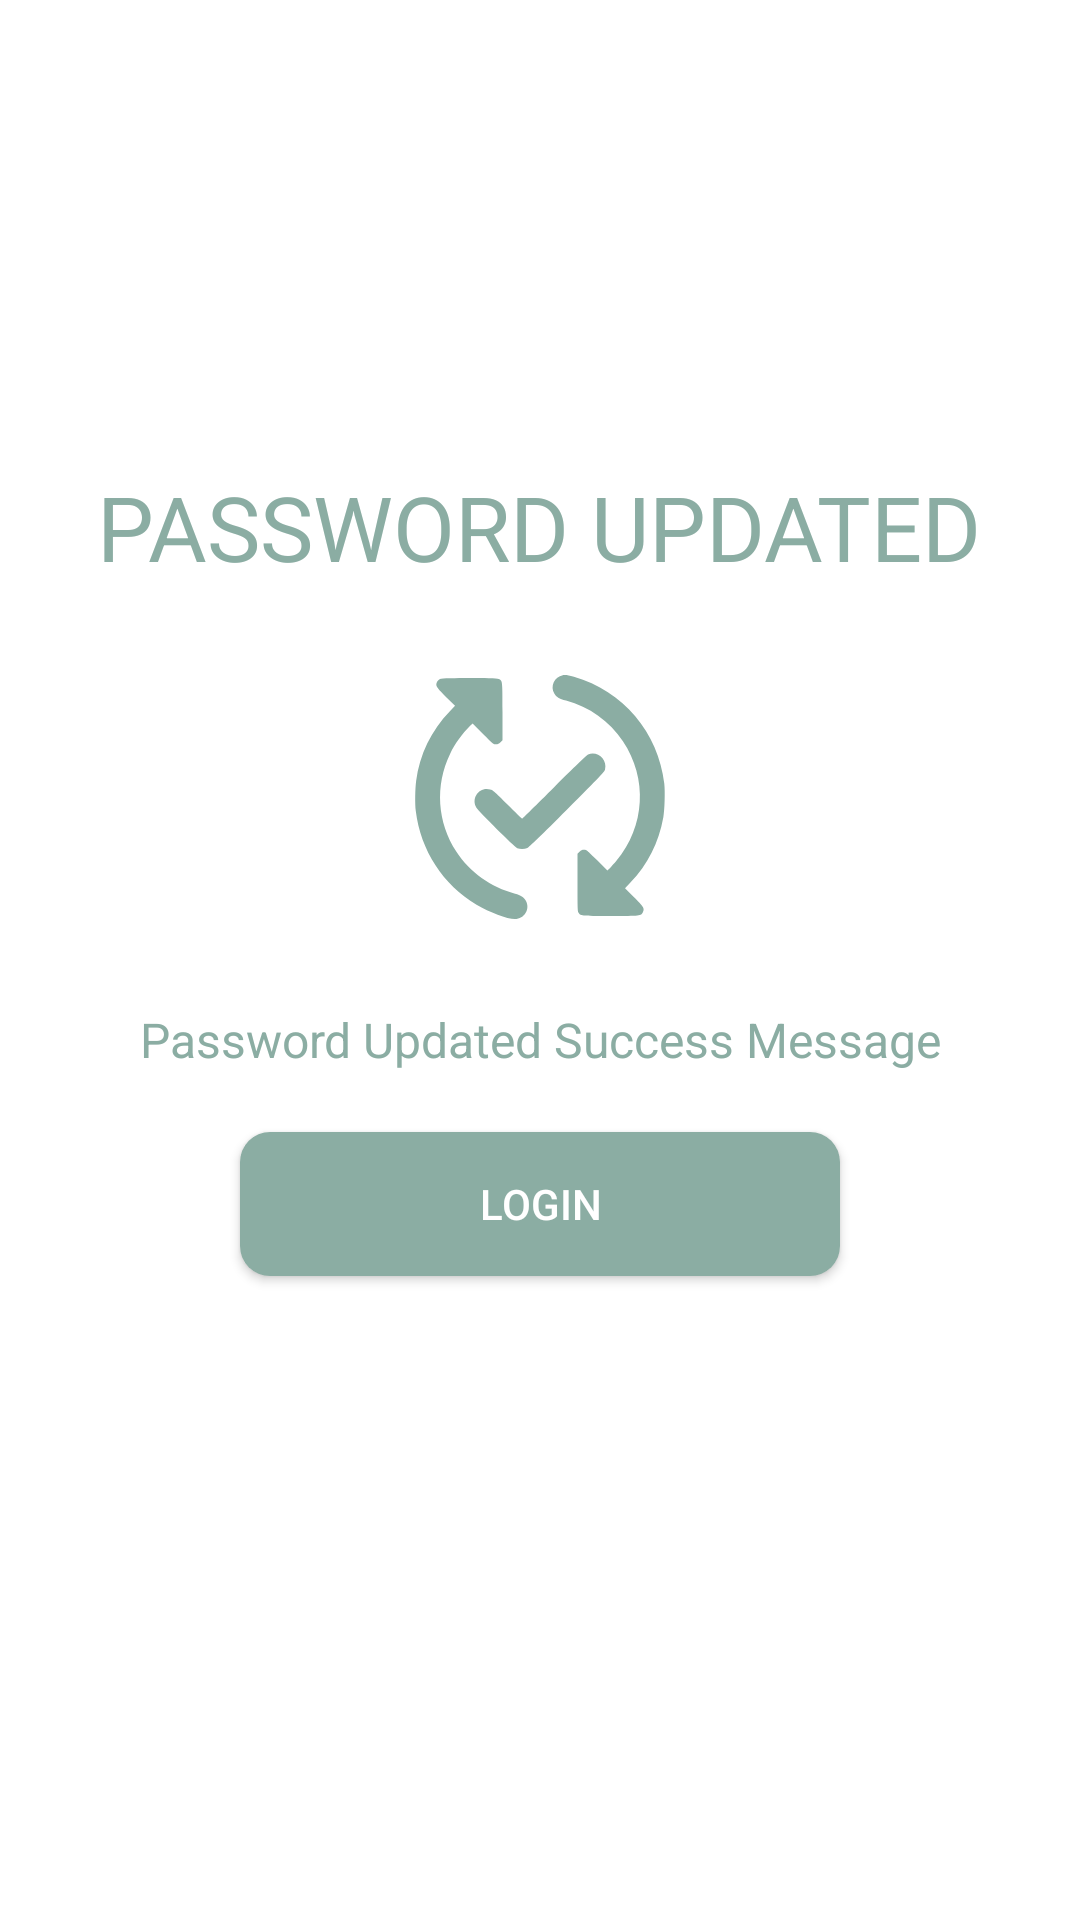

Screen size 1080 x 1920. Icon name, then its center in pixels as [x,y]:
updatepng: [540,797]
